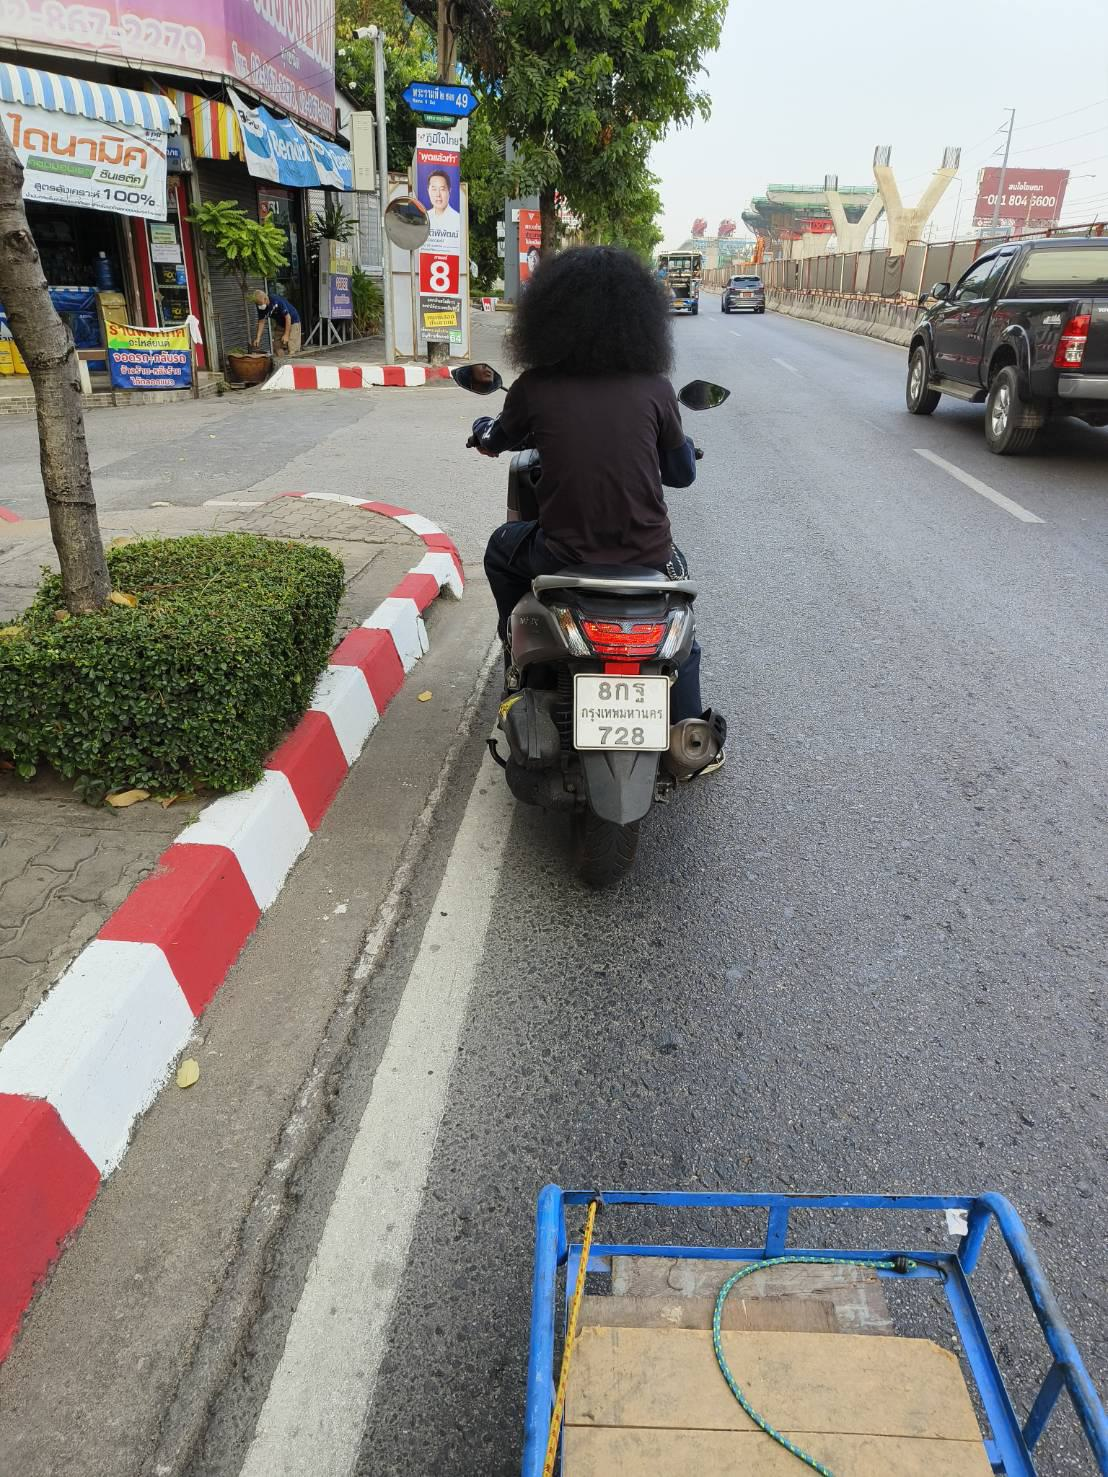Banner: (414, 118, 473, 358)
